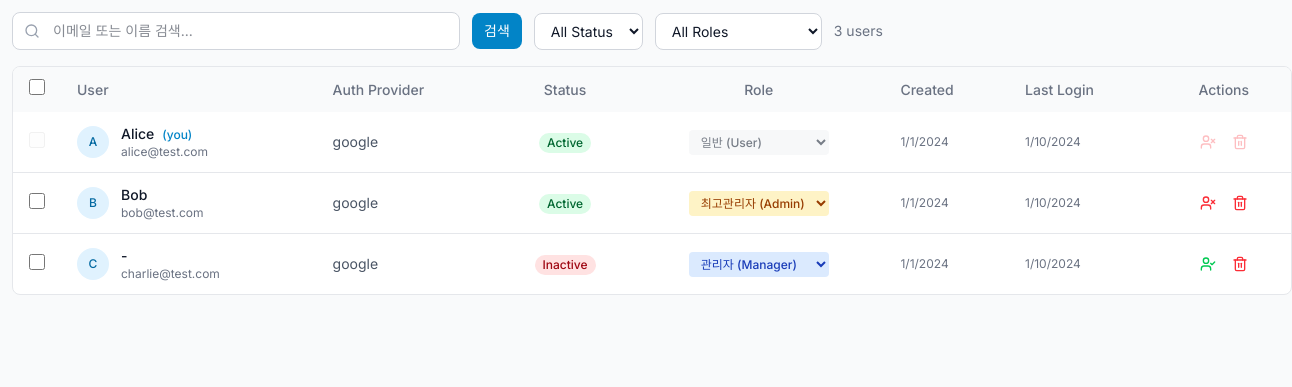
Scenario: UserManagementTab › selects all users except current user via select-all checkbox
// The first checkbox is the select-all in the desktop table header
Click the checkbox in the row of "Auth Provider": (37, 87) [29, 79, 45, 95]
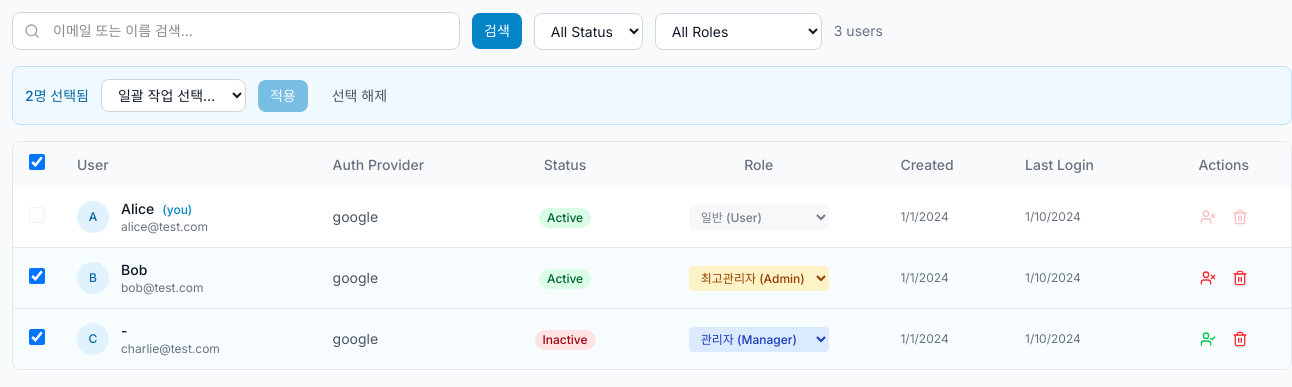
Result: the text "2명 선택됨" is shown at [25, 86, 89, 106]
